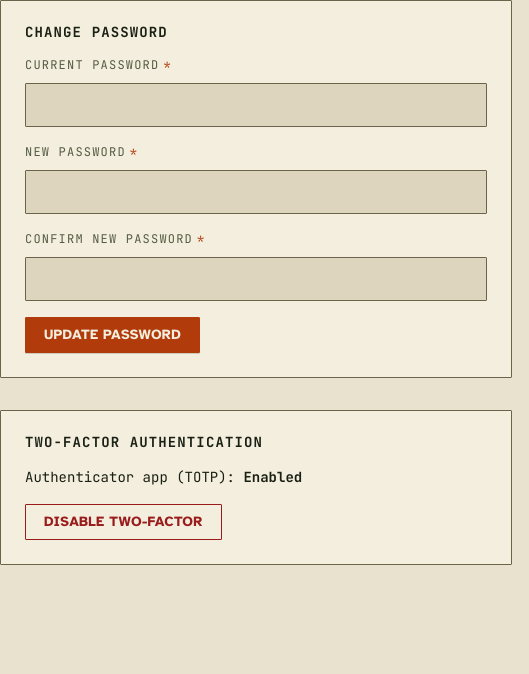
SecurityForm › disables TOTP via updateMFAPreference when already enabled
The image size is (529, 674).
Click the button "Disable two-factor".
click(123, 522)  # box [25,504,222,540]
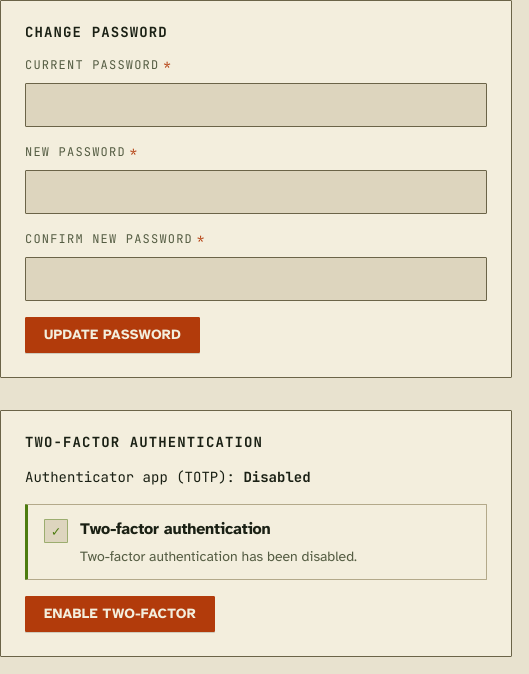
Result: the text "Two-factor authentication has been disabled." is shown at [80,548,357,565]
